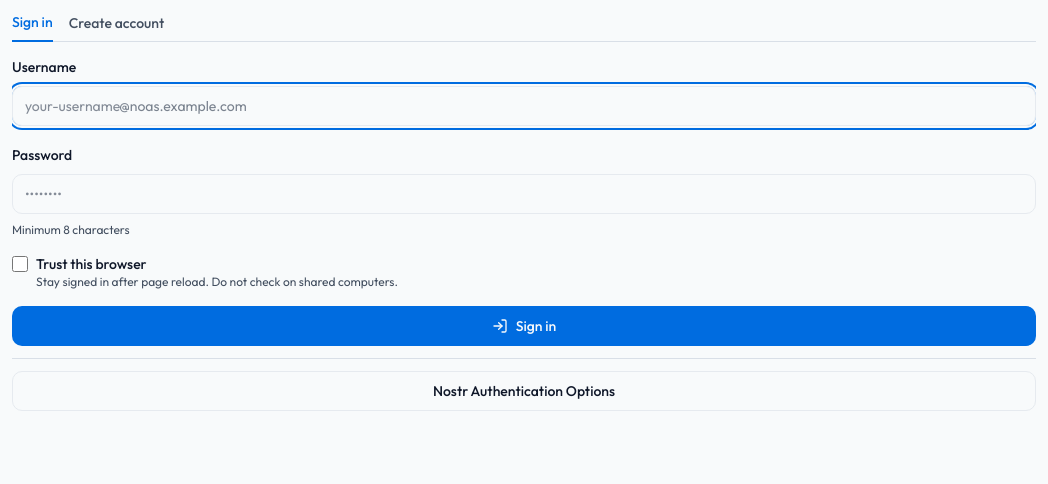
Test case: Noas auth forms › validates sign-in username with sign-up rules before submitting
Type "ab" into the field labelled "Username" at [524, 106], box left=12, top=86, right=1036, bottom=126
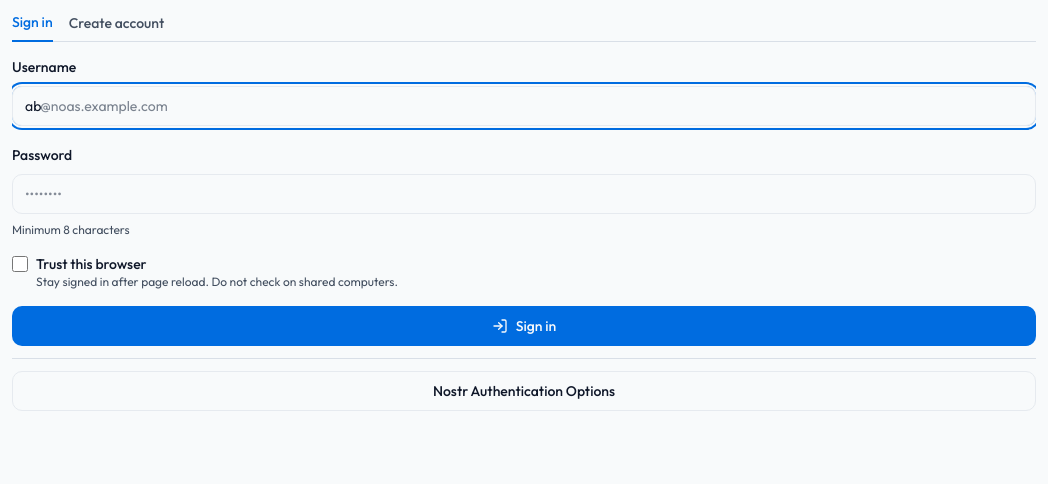
Type "password123" into the password field labelled "Password" at [524, 194], box left=12, top=174, right=1036, bottom=214
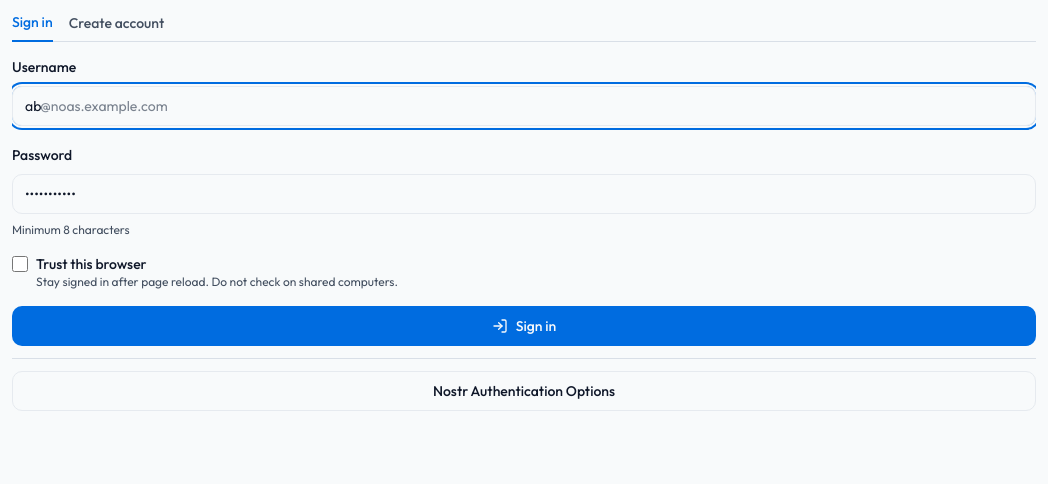
Click the button with test id "noas-auth-submit" at [524, 326], box left=12, top=306, right=1036, bottom=346
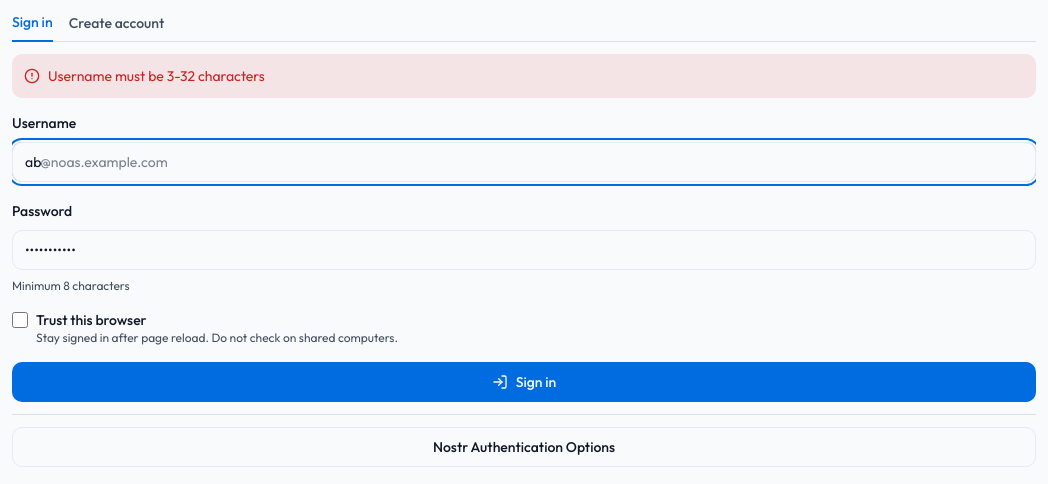
Result: the text "Username must be 3-32 characters" is shown at left=48, top=66, right=265, bottom=86
